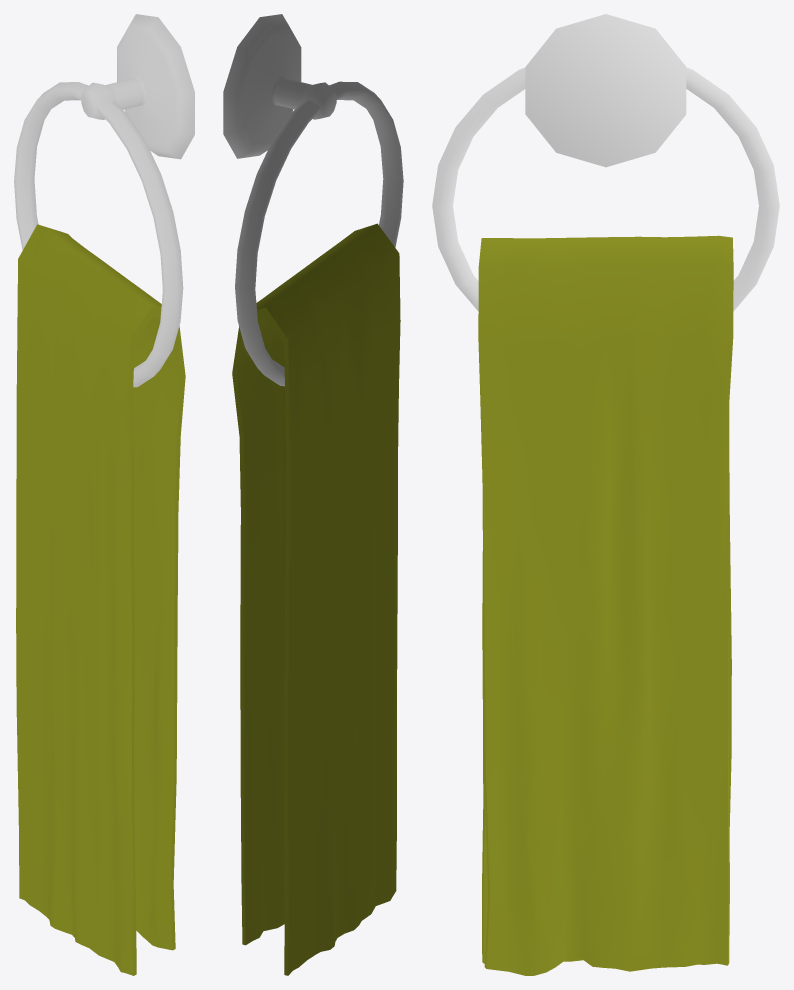
The model's file is HandTowelHolder_3299cbda.obj.
3 views of the same model, side by side, from view 1: azimuth 30°, elevation 25°; view 2: azimuth 150°, elevation 25°; view 3: azimuth 270°, elevation 25° (orthographic). The views are drawn at different scales.
Visible parts, largest first — view 1: FP401:Base16_b187349d, HandTowelHolderMesh_c20ba7ee; view 2: FP401:Base16_b187349d, HandTowelHolderMesh_c20ba7ee; view 3: FP401:Base16_b187349d, HandTowelHolderMesh_c20ba7ee.
Part boxes in pixels (box(x1,y1,x2,y2)): FP401:Base16_b187349d: box(16, 224, 185, 975); HandTowelHolderMesh_c20ba7ee: box(14, 14, 194, 387); FP401:Base16_b187349d: box(232, 223, 400, 975); HandTowelHolderMesh_c20ba7ee: box(223, 14, 403, 386); FP401:Base16_b187349d: box(478, 235, 733, 975); HandTowelHolderMesh_c20ba7ee: box(432, 14, 779, 311).
Size of the model in its own units: 0.0556 by 0.5356 by 0.1696.
